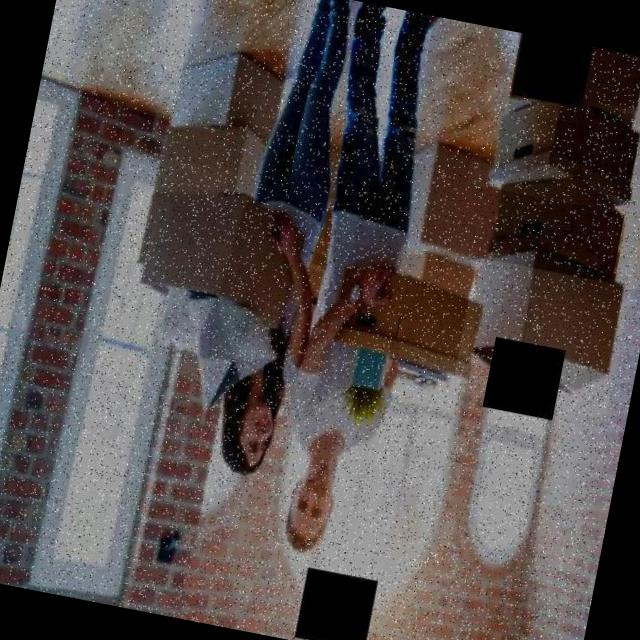box: (99, 152, 320, 334), (312, 240, 496, 426), (452, 233, 636, 419), (467, 71, 640, 216), (475, 159, 640, 286), (495, 32, 640, 135)
